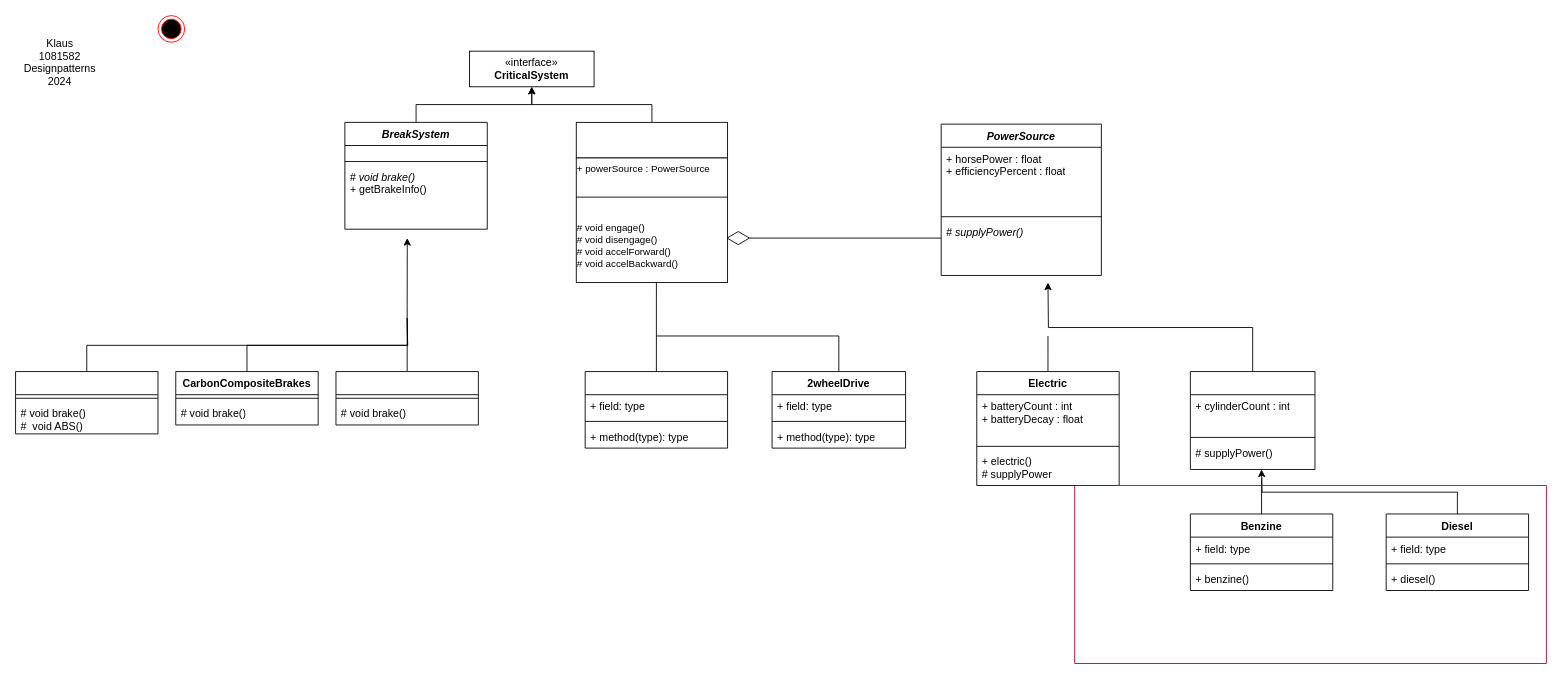
Image size: 1562x679. Some labels were removed from this diagram. Each missing label, with the box of its shape:
4wheelDrive: (584, 371, 728, 448)
DiskABSBrakes: (15, 371, 158, 434)
Gas: (1189, 371, 1315, 469)
Motor: (575, 121, 728, 158)
TrommolRemmen: (335, 371, 478, 425)
